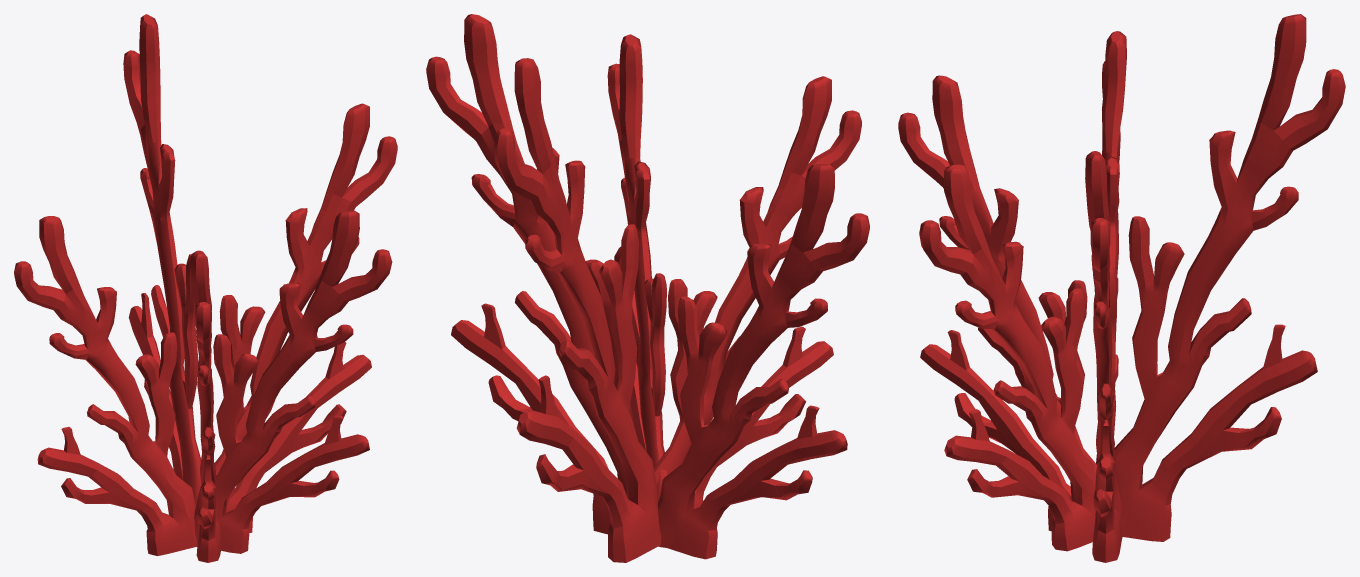
The model's file is coral.glb.
3 renders of one model, left to right at view 1: azimuth 30°, elevation 25°; view 2: azimuth 150°, elevation 25°; view 3: azimuth 270°, elevation 25°, orthographic. The views are drawn at different scales.
Parts seen in each view (by area): view 1: pCylinder23; view 2: pCylinder23; view 3: pCylinder23.
Part boxes in pixels (box(x1,y1,x2,y2)): pCylinder23: box(14, 14, 397, 562); pCylinder23: box(426, 14, 869, 562); pCylinder23: box(898, 14, 1345, 562).
Bounding box in the file's own units: 15.96 × 18.48 × 13.97.
